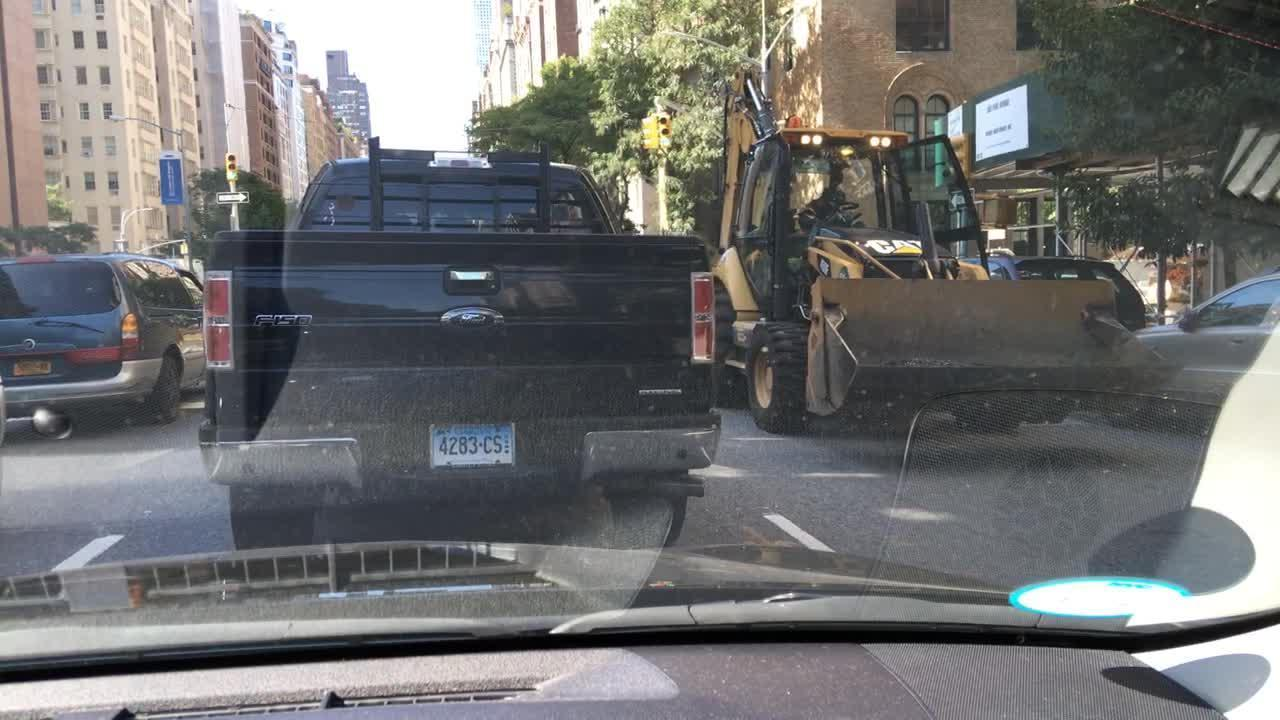Mercury: (19, 335, 43, 352)
ford: (420, 298, 517, 347)
